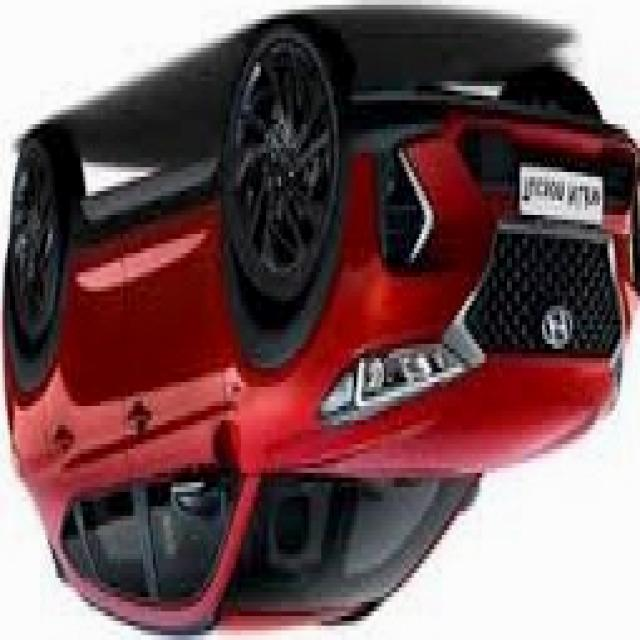maroon: (3, 109, 638, 628)
